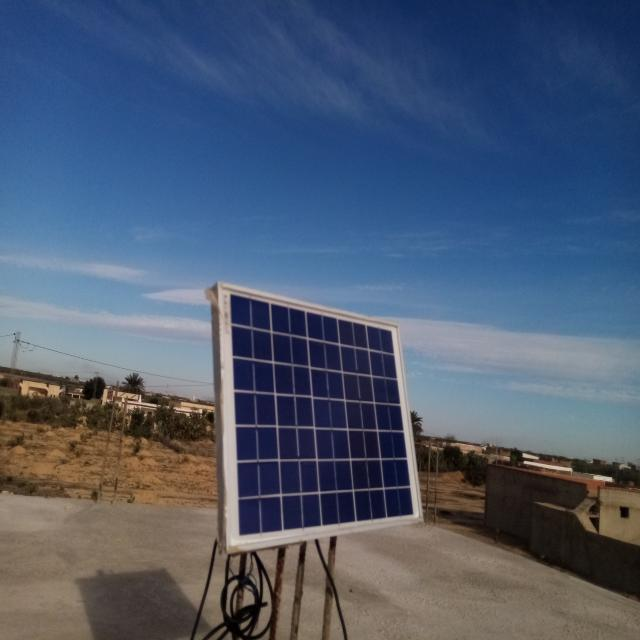no faulty: (214, 277, 425, 548)
